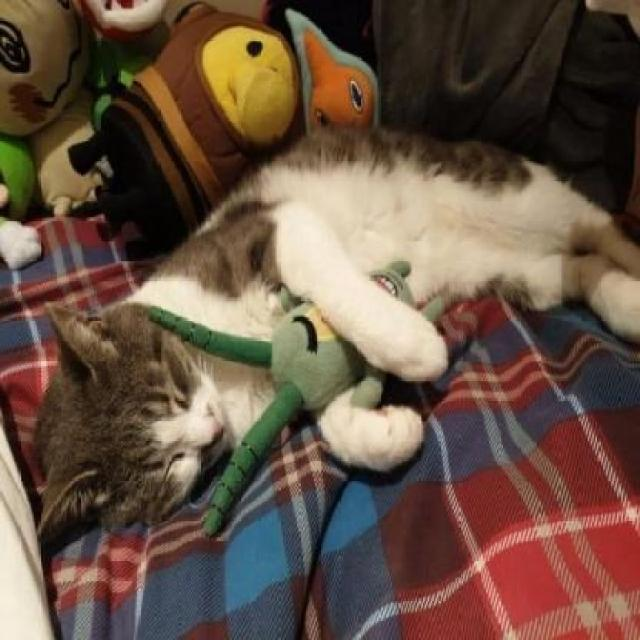cat: (23, 92, 640, 596)
